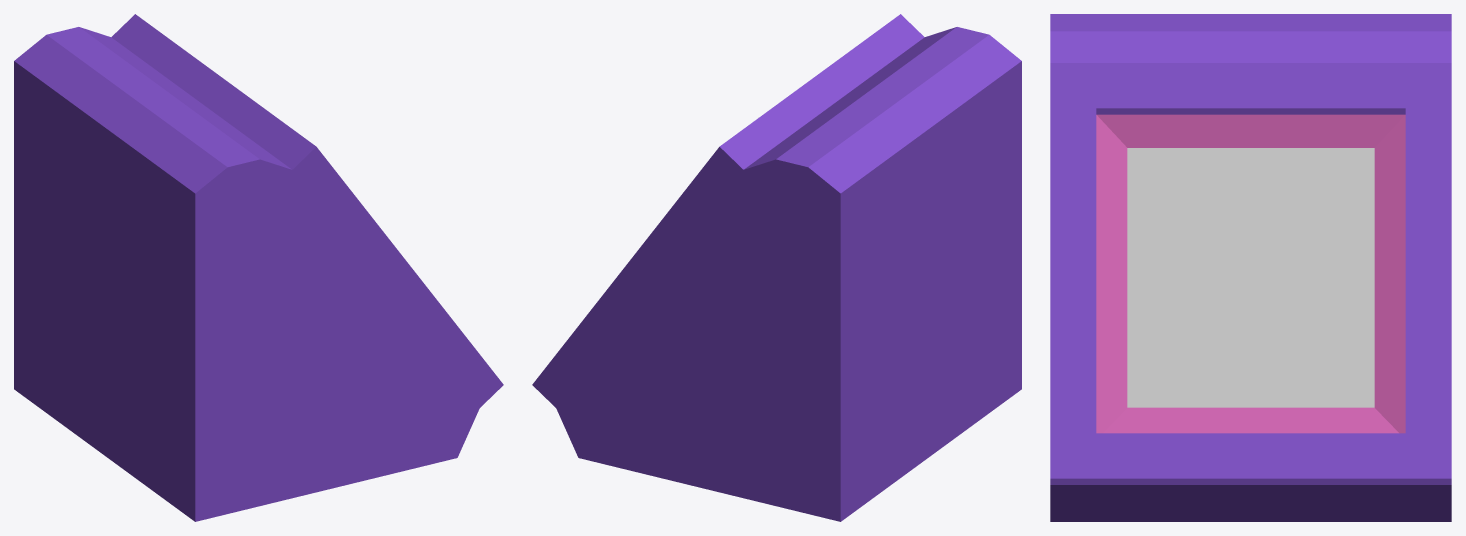
The model's file is computerTerminalComp.fbx.
3 renders of one model, left to right at view 1: azimuth 30°, elevation 25°; view 2: azimuth 150°, elevation 25°; view 3: azimuth 270°, elevation 25°, orthographic. The views are drawn at different scales.
Parts seen in each view (by area): view 1: Cube; view 2: Cube; view 3: Cube.
Part boxes in pixels (x1,y1,x2,y2): Cube: (14,14,503,521); Cube: (532,14,1021,521); Cube: (1050,14,1451,521).
Bounding box in the file's own units: 197 × 211 × 200.
